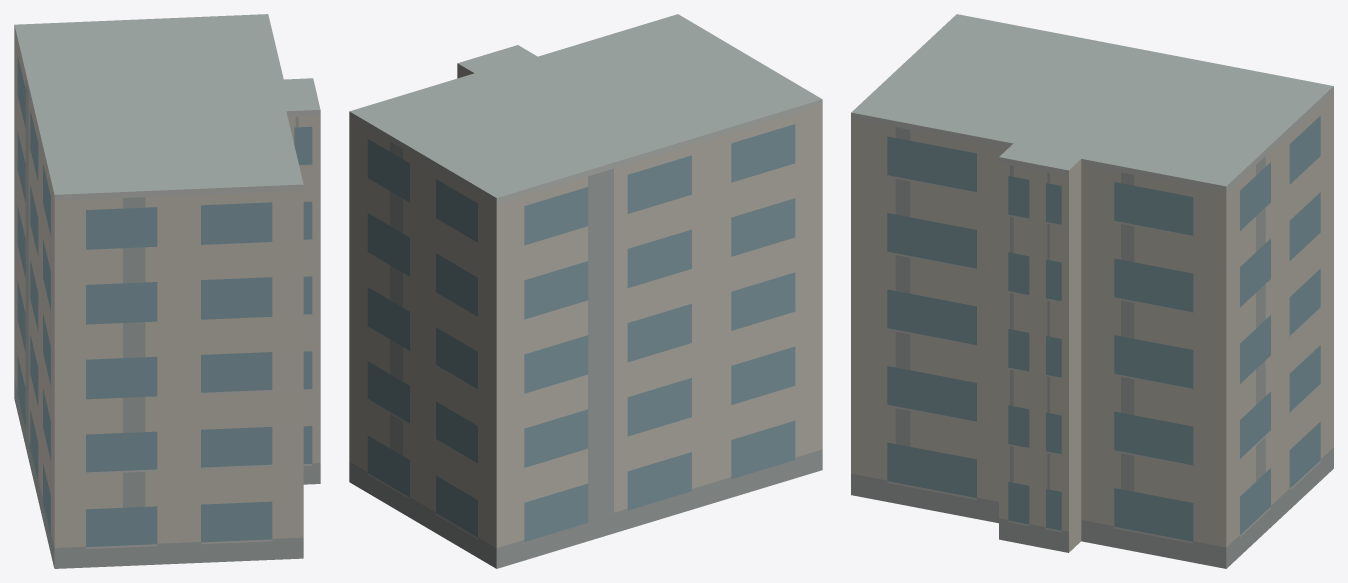
File: residential-bb25efad-7d84-4921-a632-83c7513f9672.glb
The picture shows the model from 3 angles, left to right: view 1: azimuth 30°, elevation 25°; view 2: azimuth 150°, elevation 25°; view 3: azimuth 270°, elevation 25°; orthographic projection. The views are drawn at different scales.
Parts seen in each view (by area): view 1: residential-bb25efad-7d84-4921-a632-83c7513f9672.tmp; view 2: residential-bb25efad-7d84-4921-a632-83c7513f9672.tmp; view 3: residential-bb25efad-7d84-4921-a632-83c7513f9672.tmp.
Boxes of the visible parts, left/top/right/bottom form: residential-bb25efad-7d84-4921-a632-83c7513f9672.tmp: left=14, top=14, right=320, bottom=568; residential-bb25efad-7d84-4921-a632-83c7513f9672.tmp: left=349, top=14, right=822, bottom=568; residential-bb25efad-7d84-4921-a632-83c7513f9672.tmp: left=851, top=14, right=1333, bottom=568.
Size of the model in its own units: 14.75 by 15.25 by 17.45.
